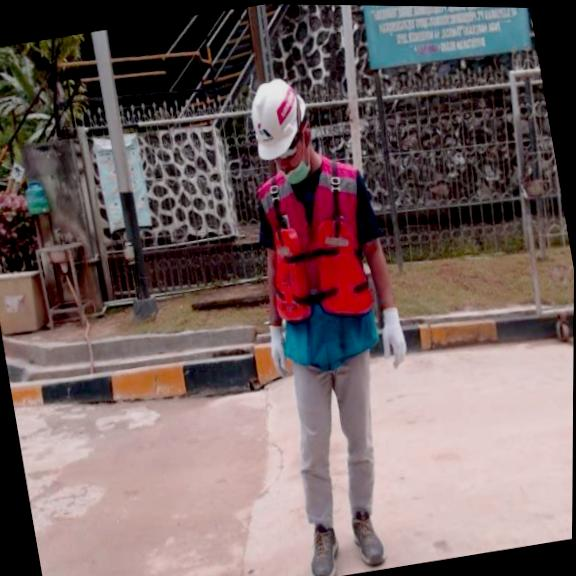safety_vest: (260, 211, 377, 331)
